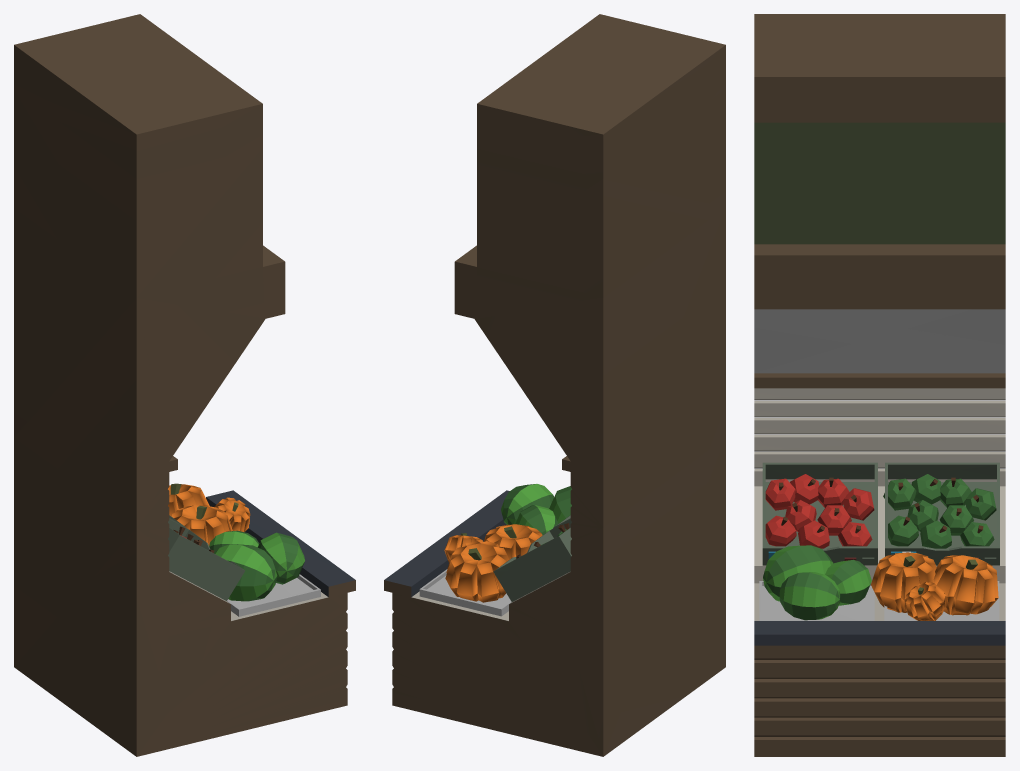
File: SM_fruitShelve_02.glb
3 renders of one model, left to right at view 1: azimuth 30°, elevation 25°; view 2: azimuth 150°, elevation 25°; view 3: azimuth 270°, elevation 25°, orthographic. The views are drawn at different scales.
Visible parts, largest first — view 1: SM_fruitShelve_02; view 2: SM_fruitShelve_02; view 3: SM_fruitShelve_02.
Part boxes in pixels (box(x1,y1,x2,y2)): SM_fruitShelve_02: box(14, 14, 355, 756); SM_fruitShelve_02: box(384, 14, 725, 756); SM_fruitShelve_02: box(754, 14, 1005, 756).
Size of the model in its own units: 1.03 by 2.8 by 1.
Materials: 2 (1 with a texture image).
